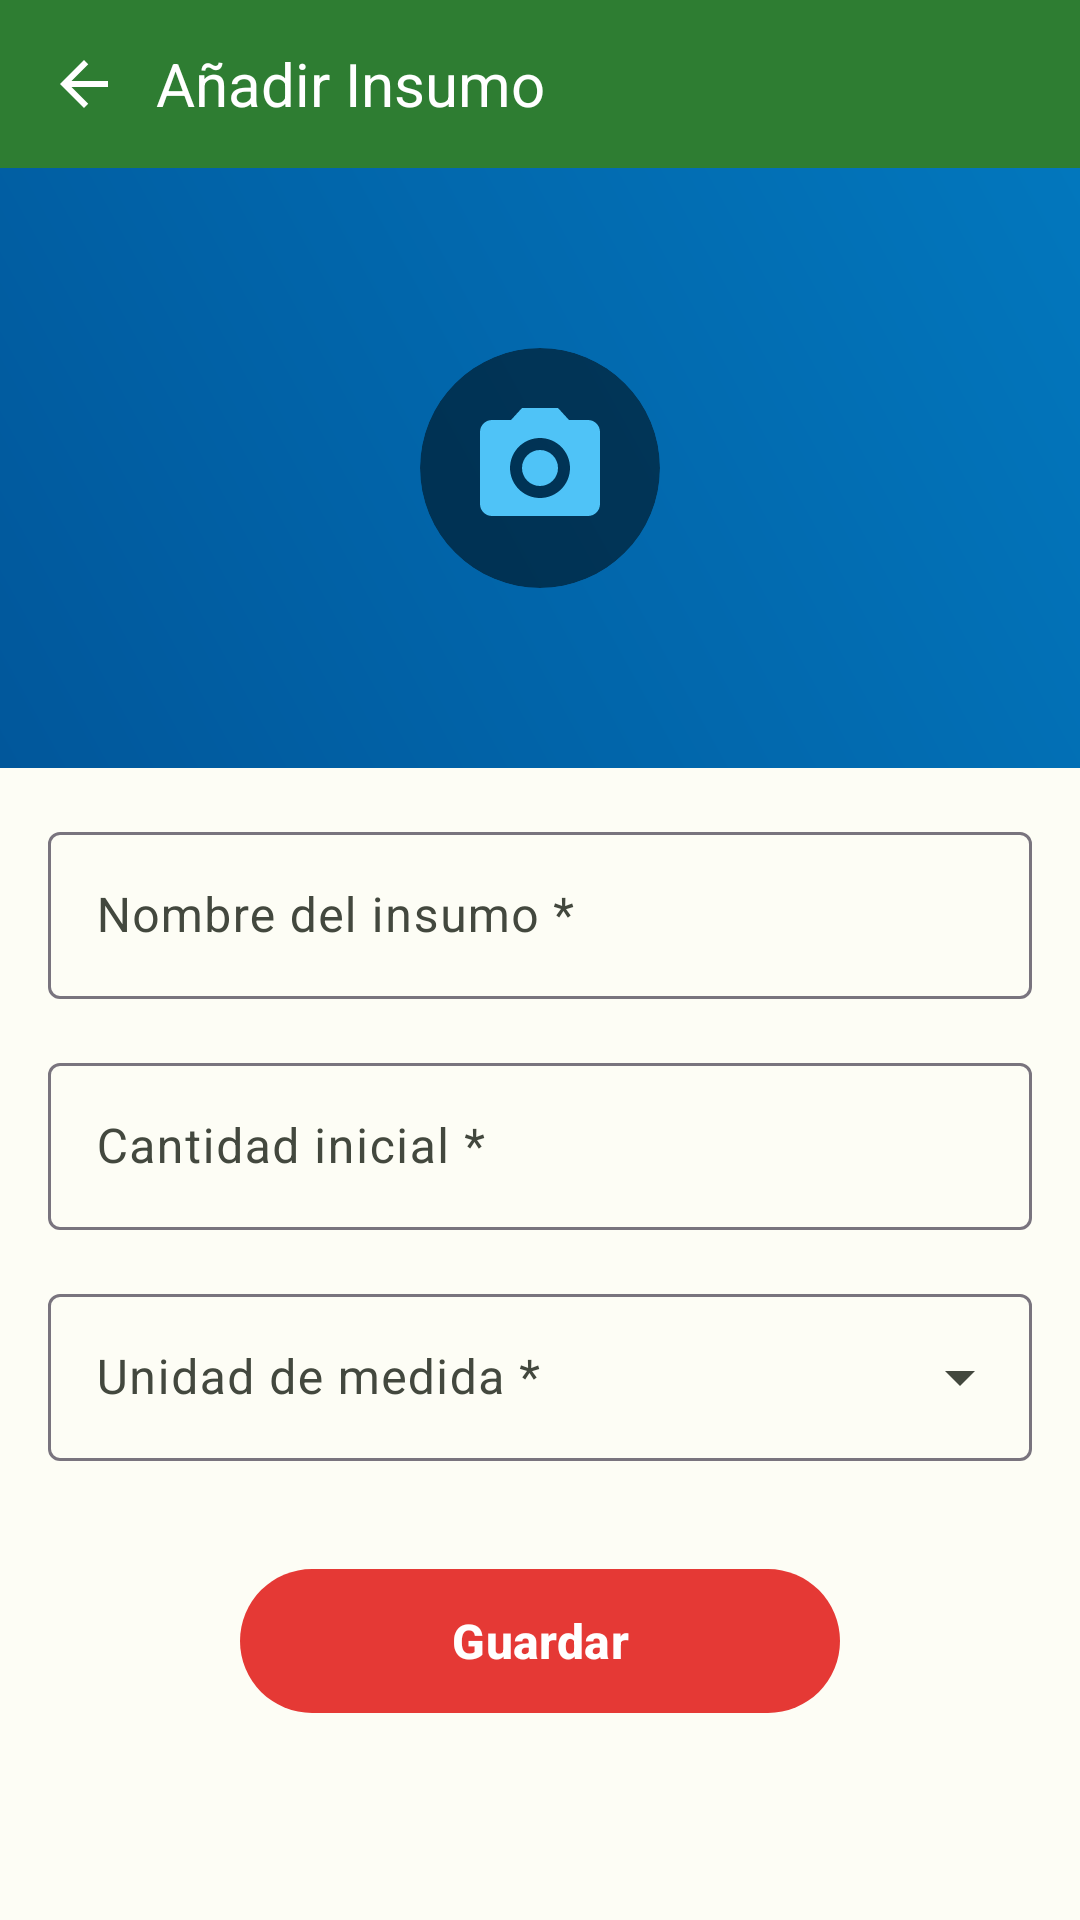

Screen size 1080px x 1920px. Icon name, then its box in pixels as (x1, y1, x2, y2):
arrow back: (60, 60, 108, 108)
camera: (480, 408, 600, 516)
